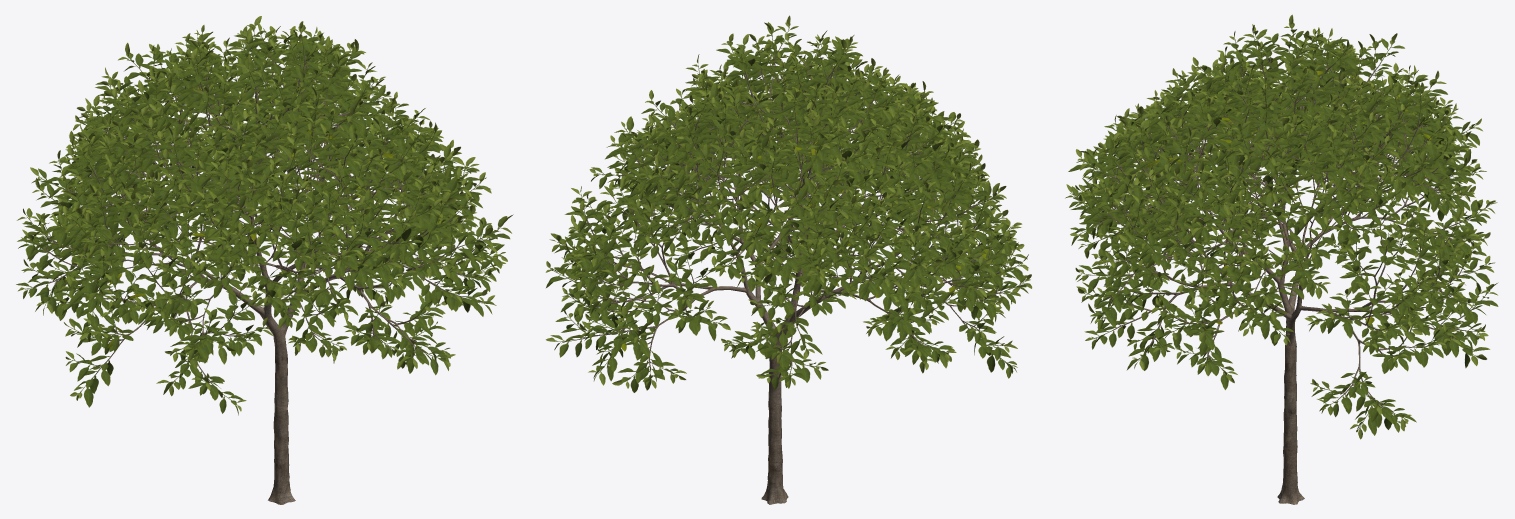
Rendered from tree.glb.
The picture shows the model from 3 angles, left to right: view 1: azimuth 30°, elevation 25°; view 2: azimuth 150°, elevation 25°; view 3: azimuth 270°, elevation 25°; orthographic projection. The views are drawn at different scales.
Visible parts, largest first — view 1: Citrus_x_aurantium_HD; view 2: Citrus_x_aurantium_HD; view 3: Citrus_x_aurantium_HD.
Boxes of the visible parts, x1,y1,x2,y2 form: Citrus_x_aurantium_HD: (16,16,513,504); Citrus_x_aurantium_HD: (545,15,1032,504); Citrus_x_aurantium_HD: (1065,14,1498,504).
Size of the model in its own units: 3.37 by 3.52 by 3.09.
7 materials, 7 textured.
